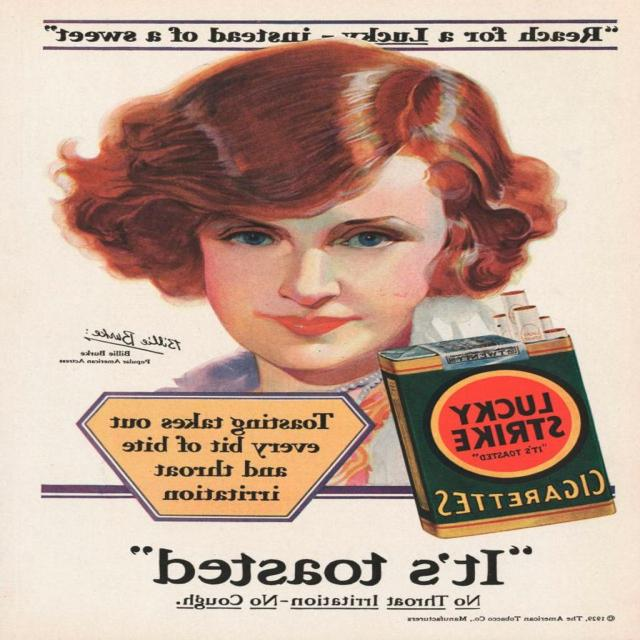smoking: (376, 290, 618, 538)
